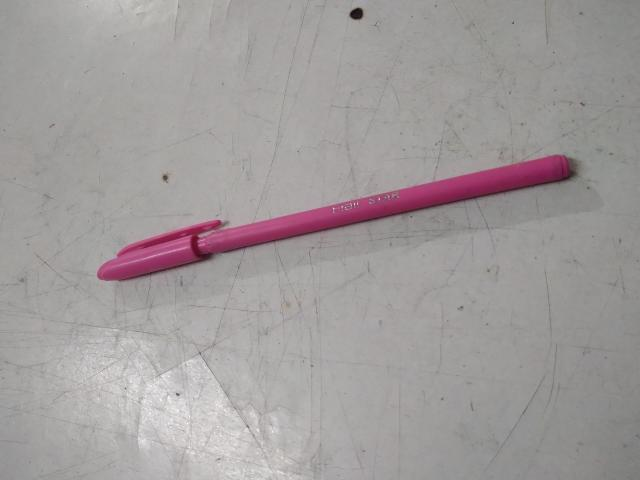PEN: (187, 91, 334, 480)
